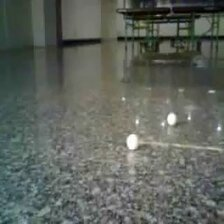w: (126, 133, 140, 150), (166, 112, 177, 124)
